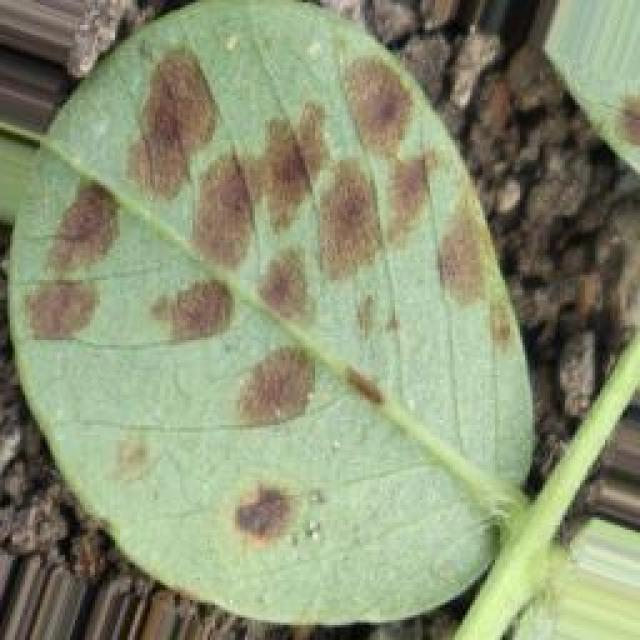Whitefly: (25, 0, 635, 600)
